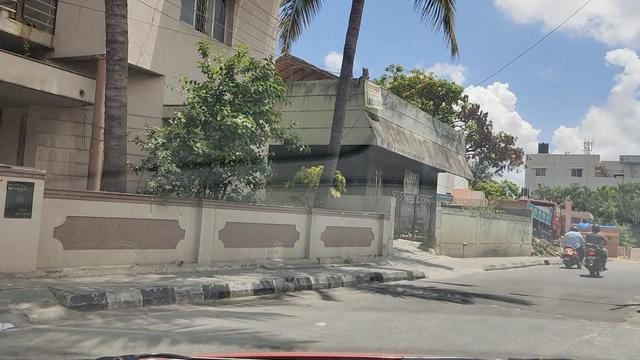RoadDamages: (599, 299, 640, 342)
